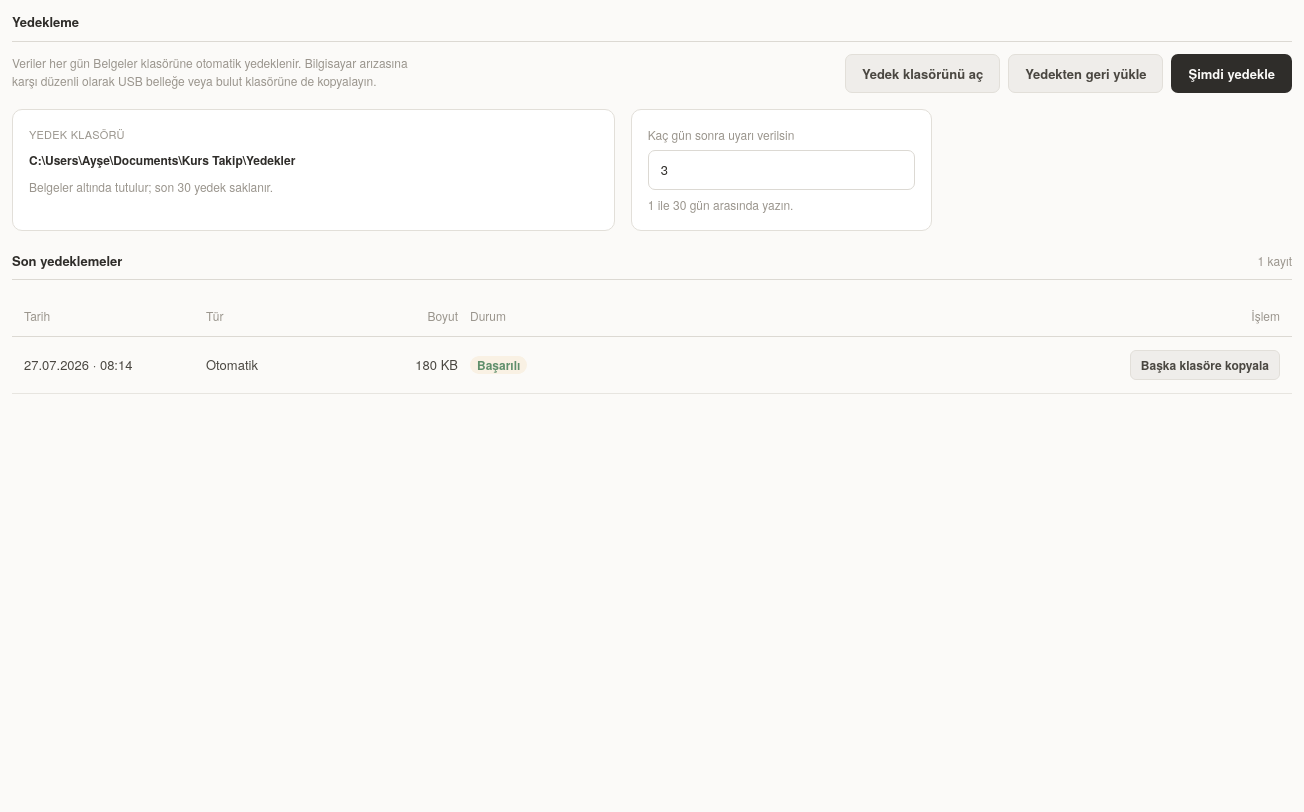
Test: Tanımlar → Yedekleme › kullanıcıya görünür klasörü, geçmişi ve elle yedeklemeyi gösterir
Check: the text "C:\\Users\\Ayşe\\Documents\\Kurs Takip\\Yedekler" is shown, box [29,150,295,168]
Check: the text "27.07.2026 · 08:14" is shown, box [24,355,132,374]
Click the button "Şimdi yedekle" at (1232, 73), box [1172,54,1292,93]
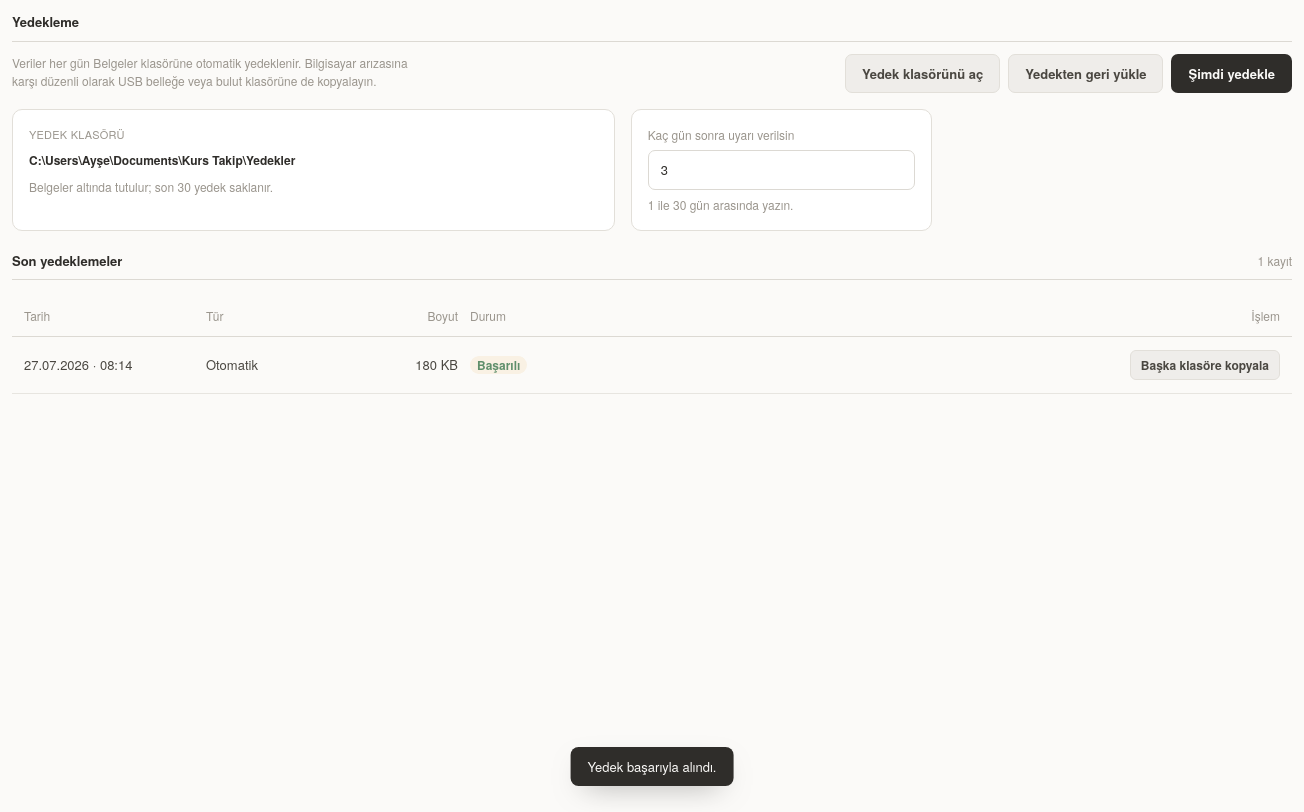
Check: the text "Yedek başarıyla alındı." is shown, box [571,746,733,786]
